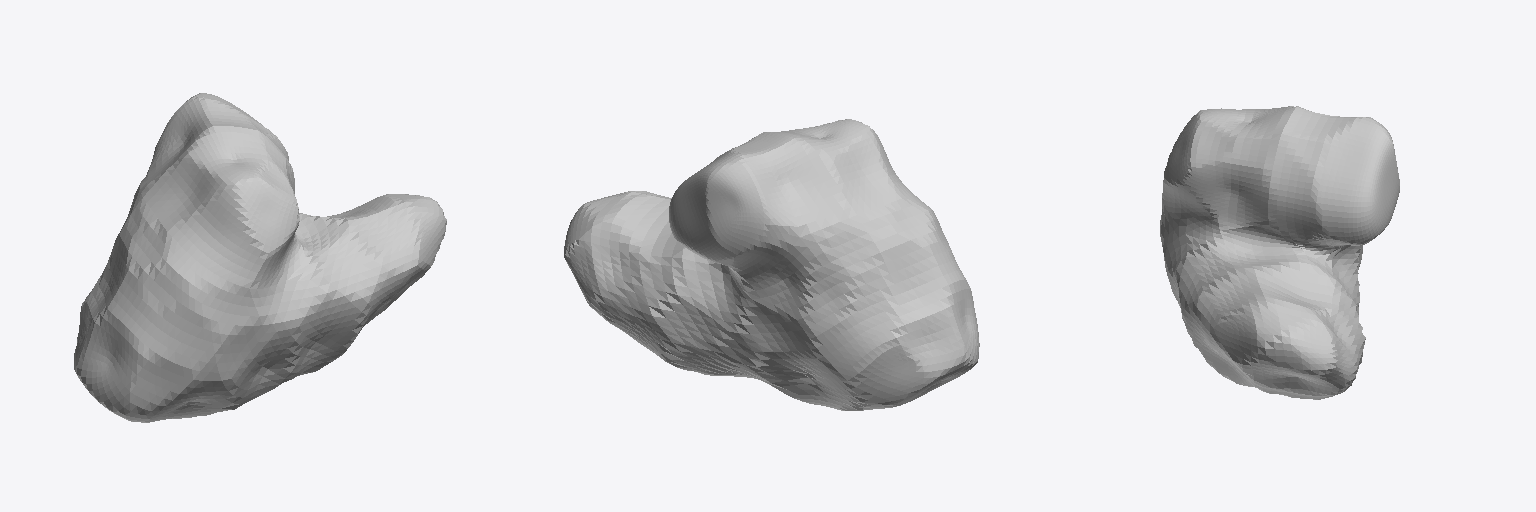
The model's file is rock1.obj.
3 renders of one model, left to right at view 1: azimuth 30°, elevation 25°; view 2: azimuth 150°, elevation 25°; view 3: azimuth 270°, elevation 25°, orthographic.
Visible parts, largest first — view 1: Cube; view 2: Cube; view 3: Cube.
Part boxes in pixels (x1,y1,x2,y2): Cube: (74,93,446,422); Cube: (564,119,979,410); Cube: (1160,106,1399,399).
Bounding box in the file's own units: 9.47 × 6.37 × 5.25.